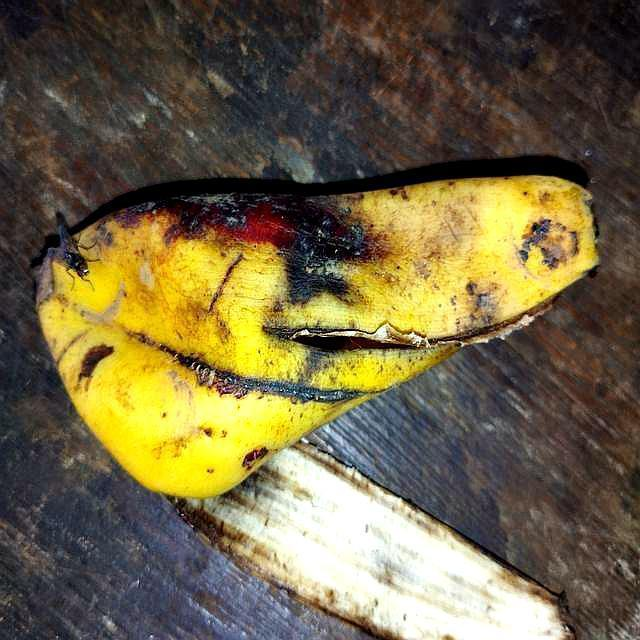Biodegradable: (35, 171, 595, 501)
